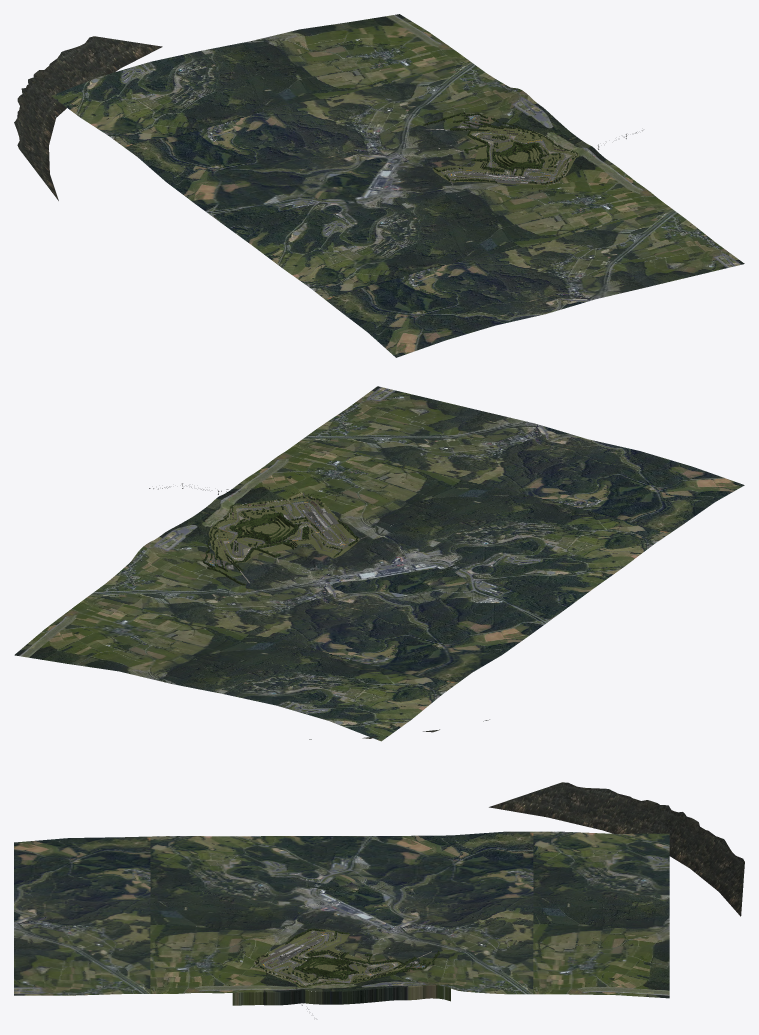
The model's file is hungaroring.clean.glb.
The picture shows the model from 3 angles, top to bottom: view 1: azimuth 30°, elevation 25°; view 2: azimuth 150°, elevation 25°; view 3: azimuth 270°, elevation 25°; orthographic projection. The views are drawn at different scales.
Parts seen in each view (by area): view 1: Object_18, Object_24, Object_86, Object_89, Object_19, Object_88; view 2: Object_18, Object_86, Object_89, Object_19, Object_88; view 3: Object_18, Object_24, Object_86, Object_89, Object_19, Object_88.
Part boxes in pixels (box(x1,y1,x2,y2)): Object_18: box(51, 14, 744, 357); Object_24: box(14, 36, 162, 200); Object_86: box(432, 124, 578, 185); Object_89: box(423, 112, 577, 184); Object_19: box(440, 115, 564, 185); Object_88: box(447, 132, 569, 182); Object_18: box(14, 386, 744, 741); Object_86: box(208, 496, 359, 563); Object_89: box(202, 496, 358, 585); Object_19: box(204, 493, 368, 569); Object_88: box(219, 502, 346, 558); Object_18: box(14, 831, 669, 1005); Object_24: box(489, 782, 744, 916); Object_86: box(253, 929, 405, 987); Object_89: box(256, 928, 439, 987); Object_19: box(250, 927, 424, 980); Object_88: box(262, 933, 395, 983).
Size of the model in its own units: 5126 by 330 by 6849.
100 materials, 100 textured.
